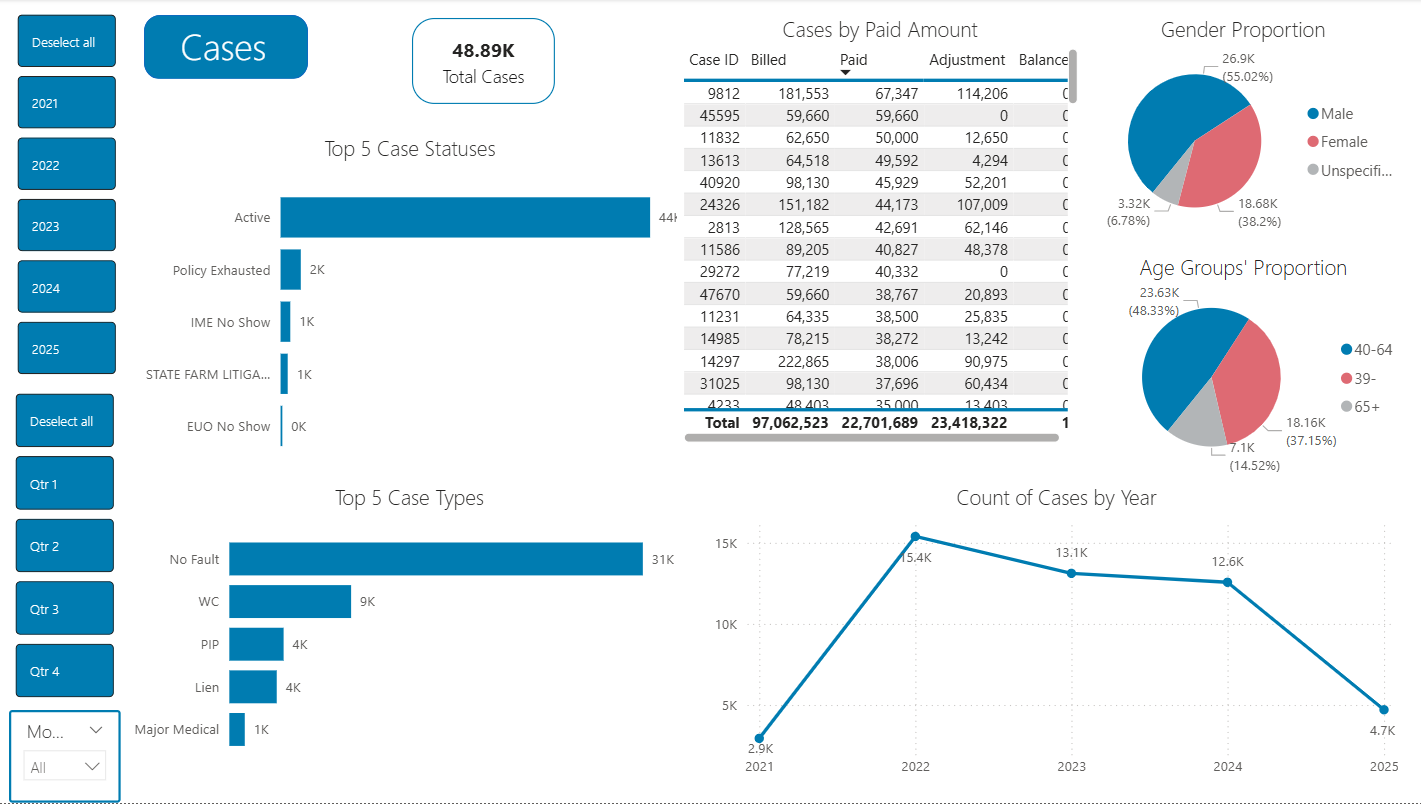

The page's visual inventory and layout, read from the dashboard file:
{"tool":"powerbi","page":{"name":"Cases","canvas":[1280,720],"ordinal":1},"visuals":[{"type":"cardVisual","fields":{"Data":["CountNonNull(Fact_Cases.id)"]},"box":[357,0,162.4,111.9],"z":0},{"type":"clusteredBarChart","title":"Top 5 Case Types","fields":{"Category":["Fact_Cases.type"],"Y":["CountNonNull(Fact_Cases.id)"]},"box":[113.8,433.8,516.5,256.8],"z":1000},{"type":"advancedSlicerVisual","fields":{"Values":["Fact_Cases.created.Variation.Date Hierarchy.Year"]},"box":[16.5,8.8,98.2,332.6],"z":2000},{"type":"clusteredBarChart","title":"Top 5 Case Statuses","fields":{"Category":["Fact_Cases.status_name"],"Y":["CountNonNull(Fact_Cases.id)"]},"box":[114.8,120.6,515.5,304.4],"z":3000},{"type":"lineChart","title":"Count of Cases by Year","fields":{"Y":["CountNonNull(Fact_Cases.id)"],"Category":["Fact_Cases.created.Variation.Date Hierarchy.Year","Fact_Cases.created.Variation.Date Hierarchy.Month"]},"box":[640,433.8,622.5,272.3],"z":4000},{"type":"advancedSlicerVisual","fields":{"Values":["Fact_Cases.created.Variation.Date Hierarchy.Quarter"]},"box":[14.6,348.2,98.2,282.1],"z":5000},{"type":"slicer","fields":{"Values":["Fact_Cases.created.Variation.Date Hierarchy.Month"]},"box":[13.6,637.1,100.2,82.7],"z":6000},{"type":"pieChart","fields":{"Category":["Fact_Cases.gender"],"Y":["CountNonNull(Fact_Cases.id)"]},"box":[975.6,14.6,286.9,200.4],"z":7000},{"type":"pieChart","fields":{"Category":["Fact_Cases.age_group"],"Y":["CountNonNull(Fact_Cases.id)"]},"box":[975.6,227.6,286.9,197.4],"z":8000},{"type":"tableEx","title":"Top 10 Cases by Paid Amount","fields":{"Values":["Fact_Cases.id","Sum(Fact_Bill_Payments.billed)","Sum(Fact_Bill_Payments.paid)","Sum(Fact_Bill_Payments.adjustment)","Sum(Fact_Bill_Payments.balance)"]},"box":[640,14.6,335.6,388.1],"z":9000},{"type":"shape","box":[134.2,14.6,146.9,57.4],"z":10000},{"type":"textbox","box":[162.4,14.6,101.2,57.4],"z":11000}]}

Visuals, with their boxes in screenshot pixels (x1, y1, x2, y2), scaled from the page's 1280x720 canvas onto the 1421x804 screenshot:
cardVisual - CountNonNull(Fact_Cases.id): Rect(396, 0, 577, 125)
"Top 5 Case Types" clusteredBarChart: Rect(126, 484, 700, 771)
advancedSlicerVisual - Fact_Cases.created.Variation.Date Hierarchy.Year: Rect(18, 10, 127, 381)
"Top 5 Case Statuses" clusteredBarChart: Rect(127, 135, 700, 475)
"Count of Cases by Year" lineChart: Rect(710, 484, 1402, 788)
advancedSlicerVisual - Fact_Cases.created.Variation.Date Hierarchy.Quarter: Rect(16, 389, 125, 704)
slicer - Fact_Cases.created.Variation.Date Hierarchy.Month: Rect(15, 711, 126, 803)
pieChart - Fact_Cases.gender x CountNonNull(Fact_Cases.id): Rect(1083, 16, 1402, 240)
pieChart - Fact_Cases.age_group x CountNonNull(Fact_Cases.id): Rect(1083, 254, 1402, 475)
"Top 10 Cases by Paid Amount" tableEx: Rect(710, 16, 1083, 450)
shape: Rect(149, 16, 312, 80)
textbox: Rect(180, 16, 293, 80)
